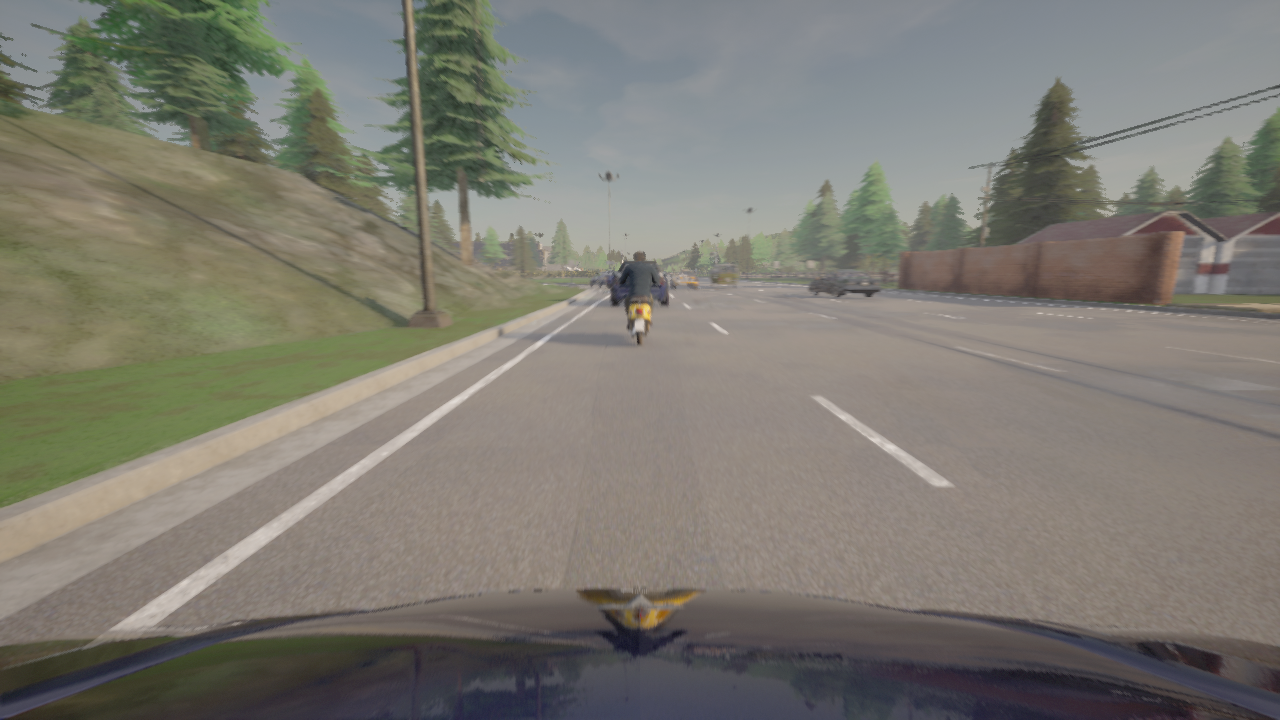cyclist: (0, 588, 1279, 719), (616, 271, 662, 345), (611, 261, 667, 305), (809, 269, 881, 297), (710, 264, 738, 287), (671, 268, 697, 288), (589, 270, 614, 288)
